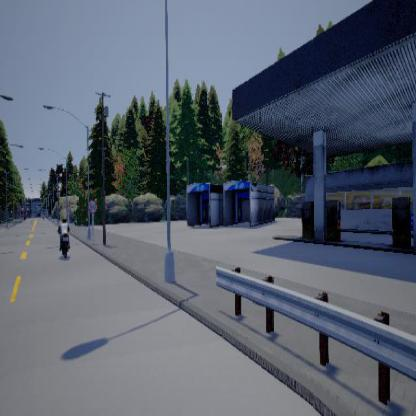bike: (56, 218, 71, 256)
traffic_sign_60: (88, 200, 97, 212)
